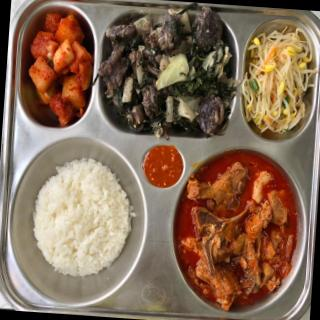Nasi: (25, 157, 143, 279)
